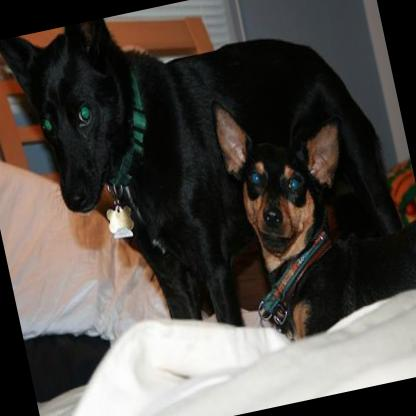kelpie: (0, 0, 413, 365), (206, 58, 416, 346)
